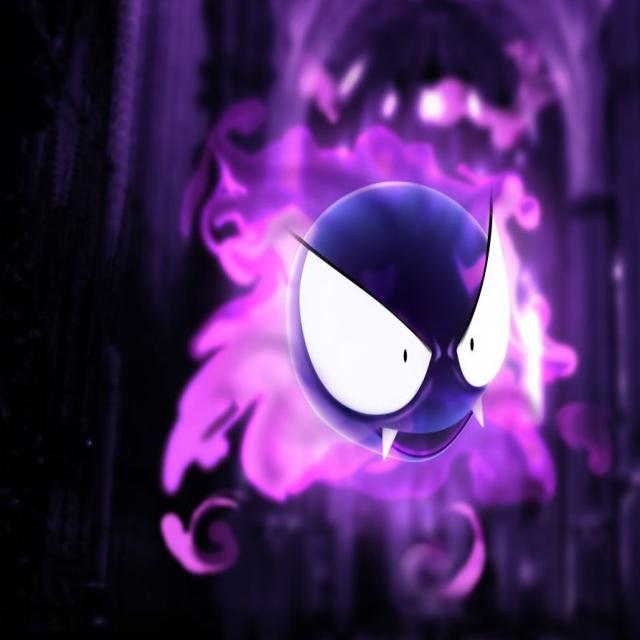Gastly: (235, 152, 542, 496)
